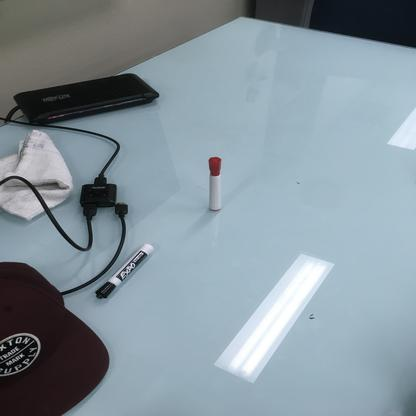expo_marker: (92, 240, 156, 305), (202, 154, 228, 216)
